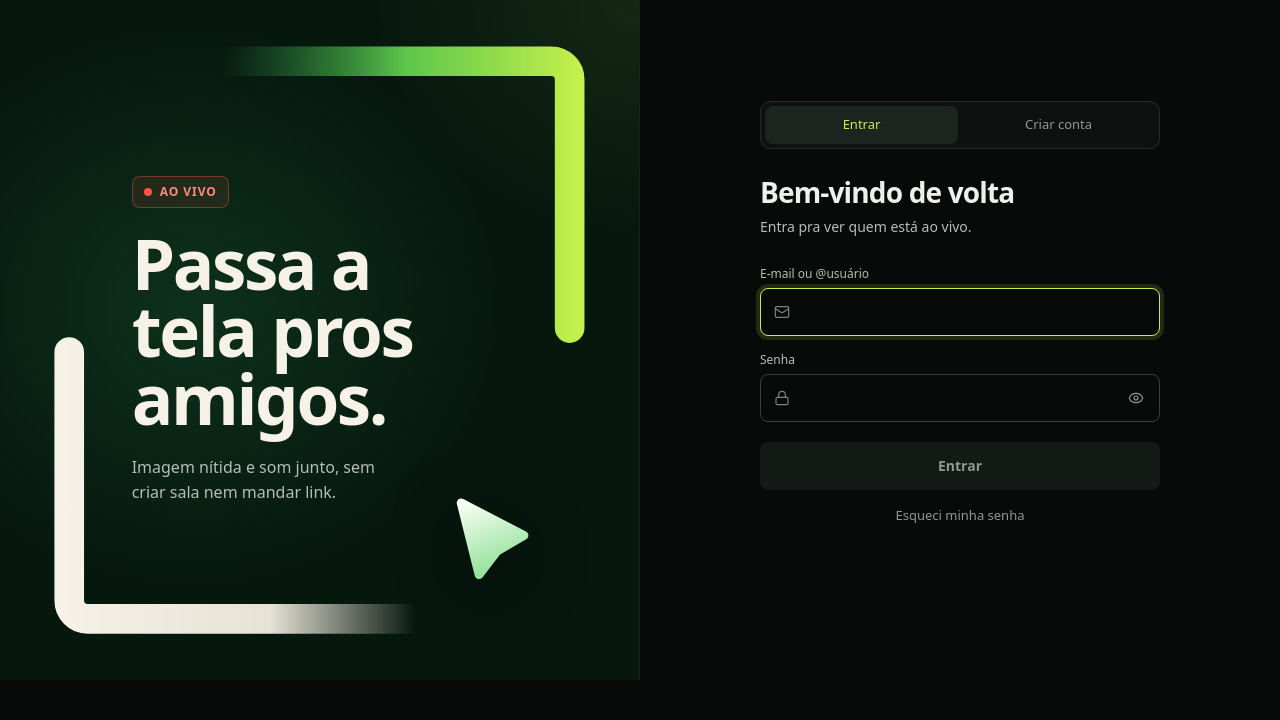
Test case: shows a translated message for a server error code
This screenshot has width=1280, height=720.
Type "ana" into the field labelled "E-mail ou @usuário" at (960, 312), box [760, 288, 1160, 336]
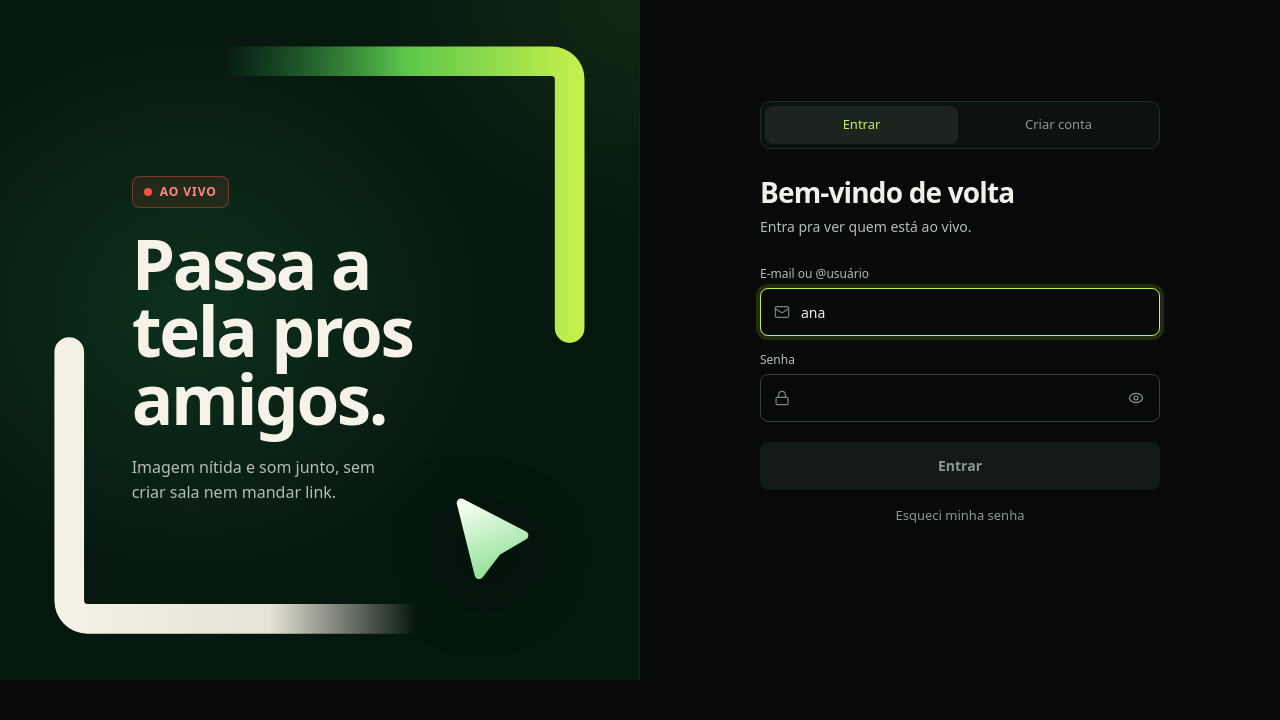
Type "errada-errada-1" into the password field labelled "Senha" at (960, 398), box [760, 374, 1160, 422]
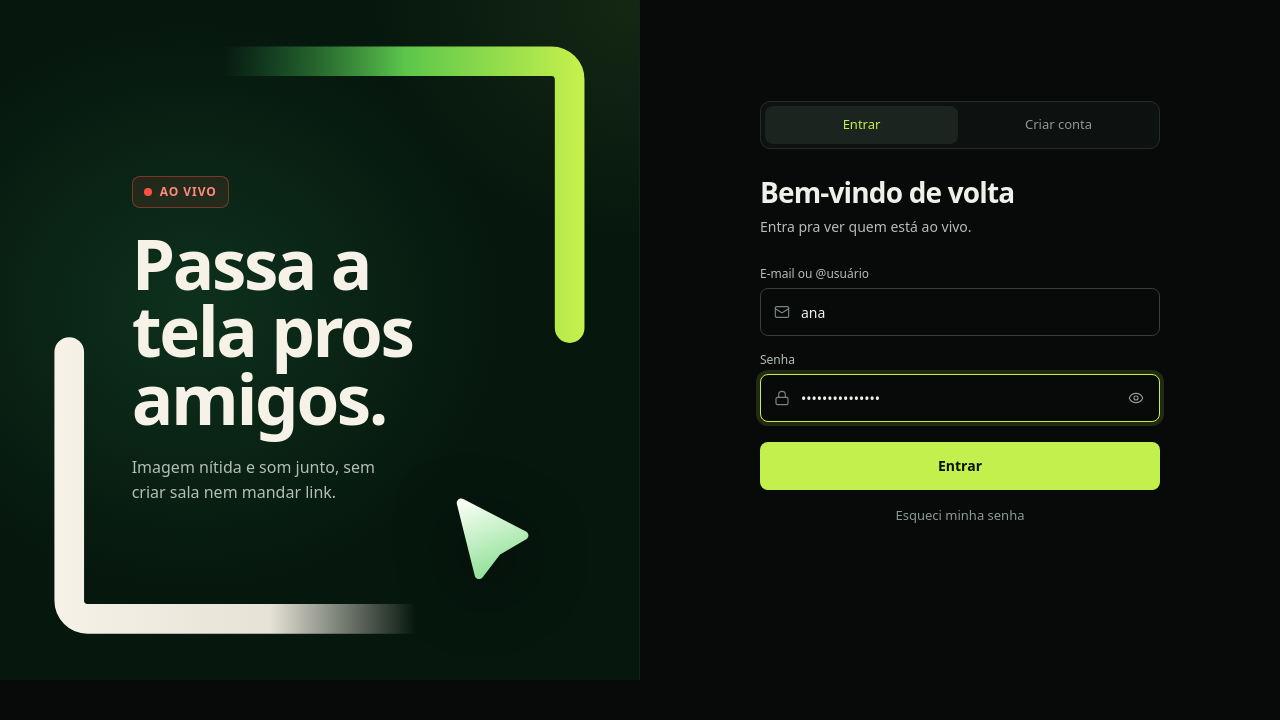
Click the button "Entrar" at (960, 466), box [760, 442, 1160, 490]
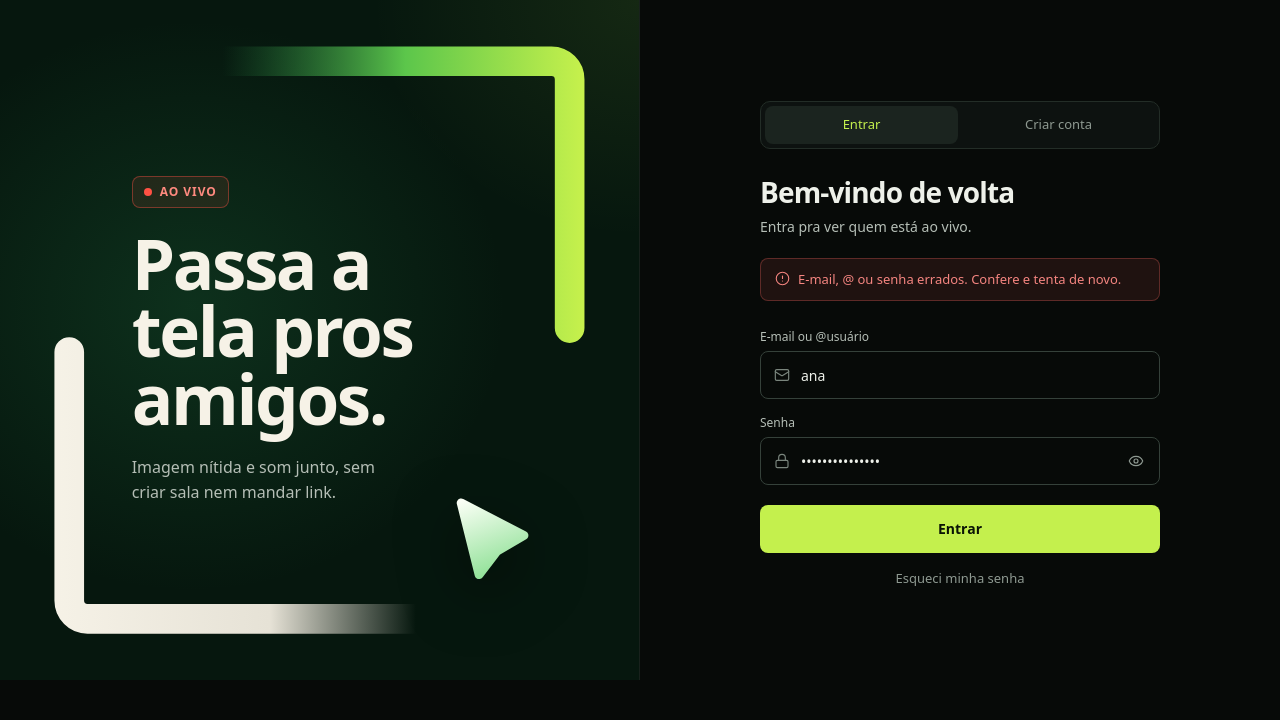
Expected: the message shows "errados", [798, 270, 1121, 288]
